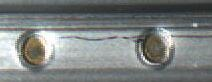joints: (136, 25, 174, 67), (14, 29, 53, 69)
